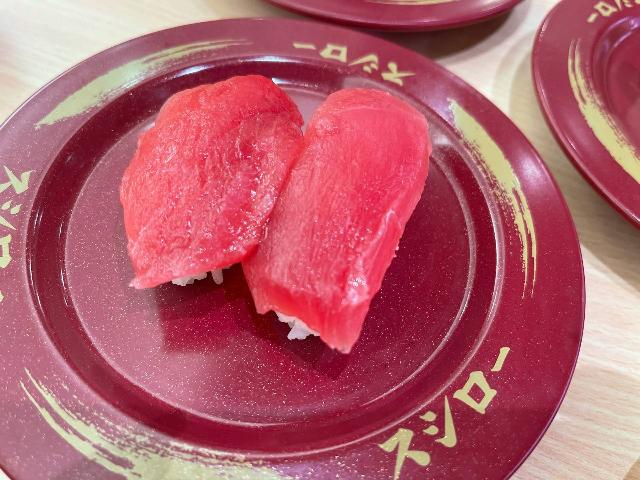janred: (7, 67, 533, 480), (522, 0, 640, 254), (208, 0, 532, 65)
